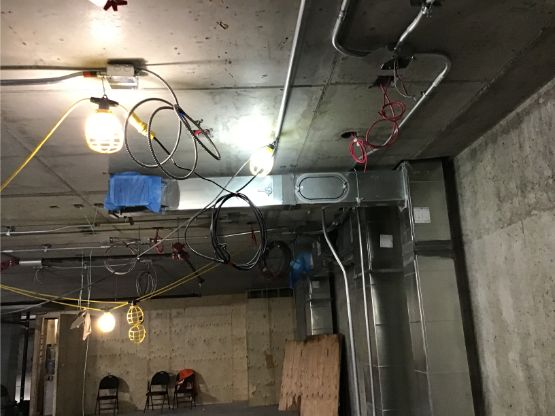Duct: (393, 151, 483, 416), (97, 151, 409, 215), (285, 232, 339, 345)
